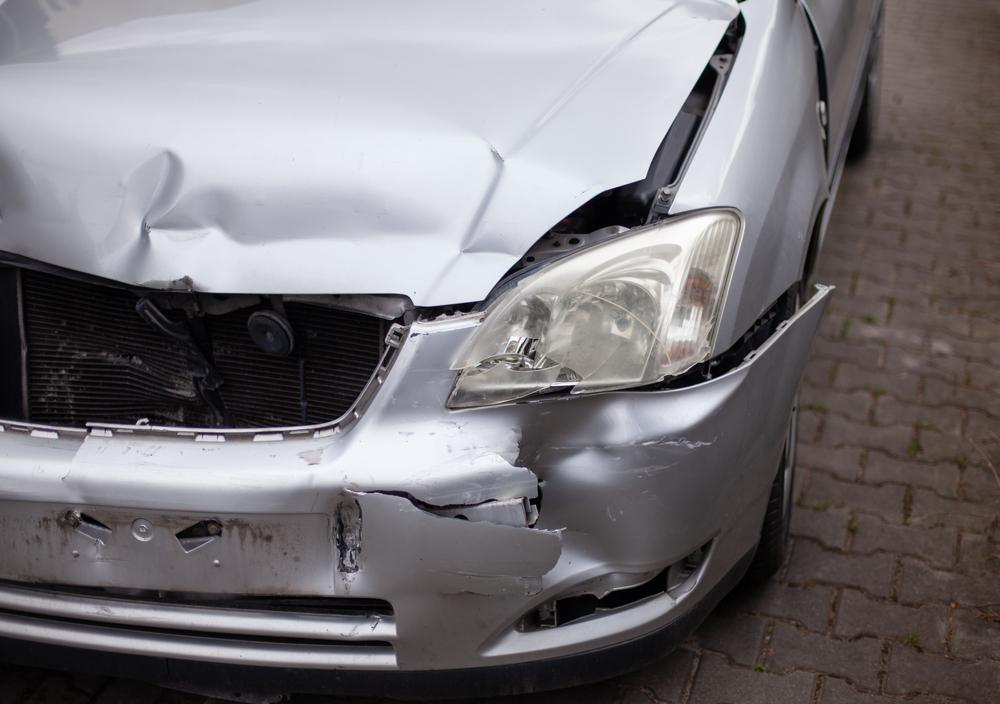crack: (336, 487, 546, 530)
dent: (96, 143, 520, 299), (519, 373, 740, 570)
lamp broken: (451, 208, 744, 409)
